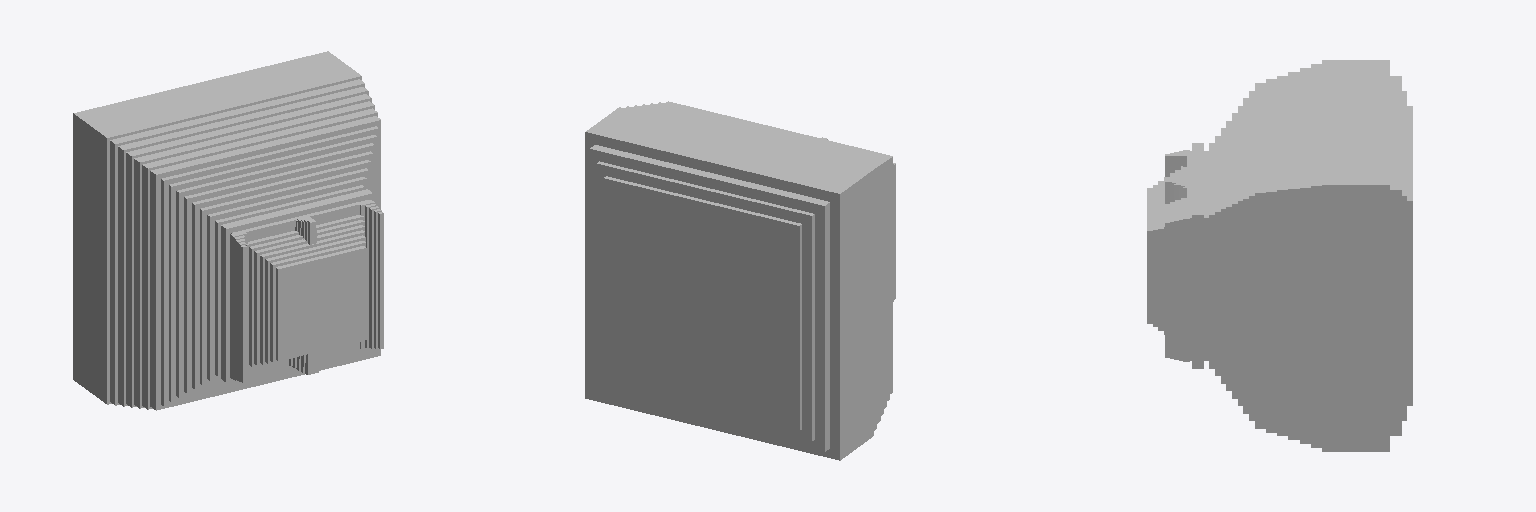
The model's file is boss4.obj.
The picture shows the model from 3 angles: view 1: azimuth 30°, elevation 25°; view 2: azimuth 150°, elevation 25°; view 3: azimuth 270°, elevation 25°; orthographic projection.
Parts seen in each view (by area): view 1: obj1; view 2: obj1; view 3: obj1.
Part boxes in pixels (x1,y1,x2,y2): obj1: (73,51,383,410); obj1: (585,101,895,460); obj1: (1147,60,1412,451).
Size of the model in its own units: 13 by 13 by 11.75.